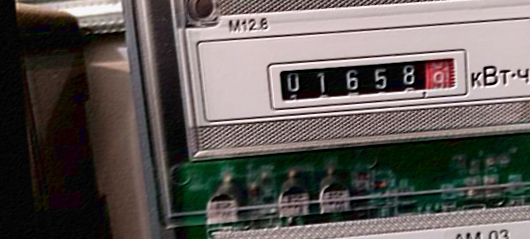0: (285, 70, 300, 93)
1: (315, 70, 327, 93)
5: (372, 66, 388, 90)
6: (343, 67, 359, 91)
8: (400, 62, 416, 85)
9: (429, 69, 444, 91)
screen: (260, 39, 476, 118)
